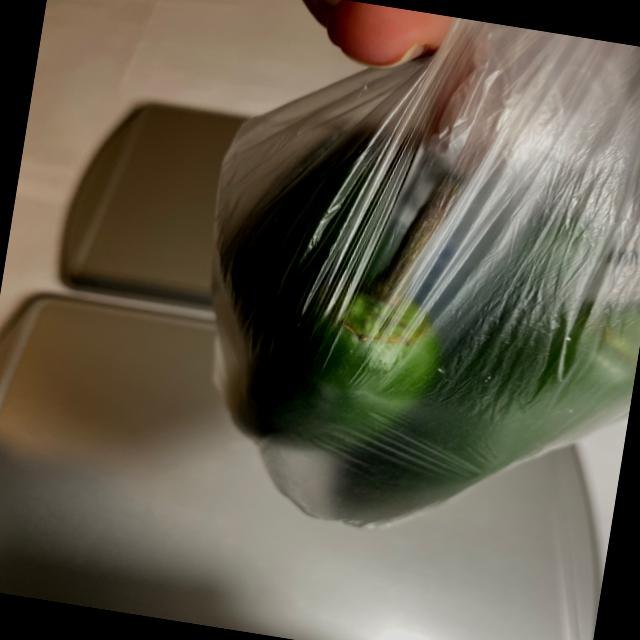chilli: (171, 73, 640, 585)
